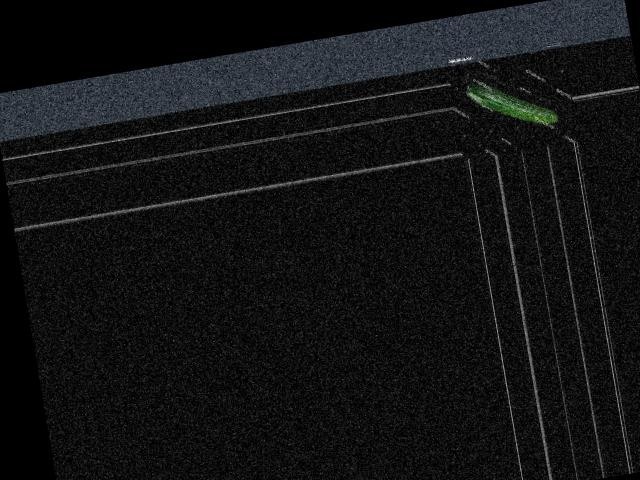cucumber: (465, 68, 559, 136)
